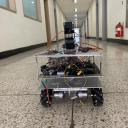cart: (34, 50, 104, 107)
